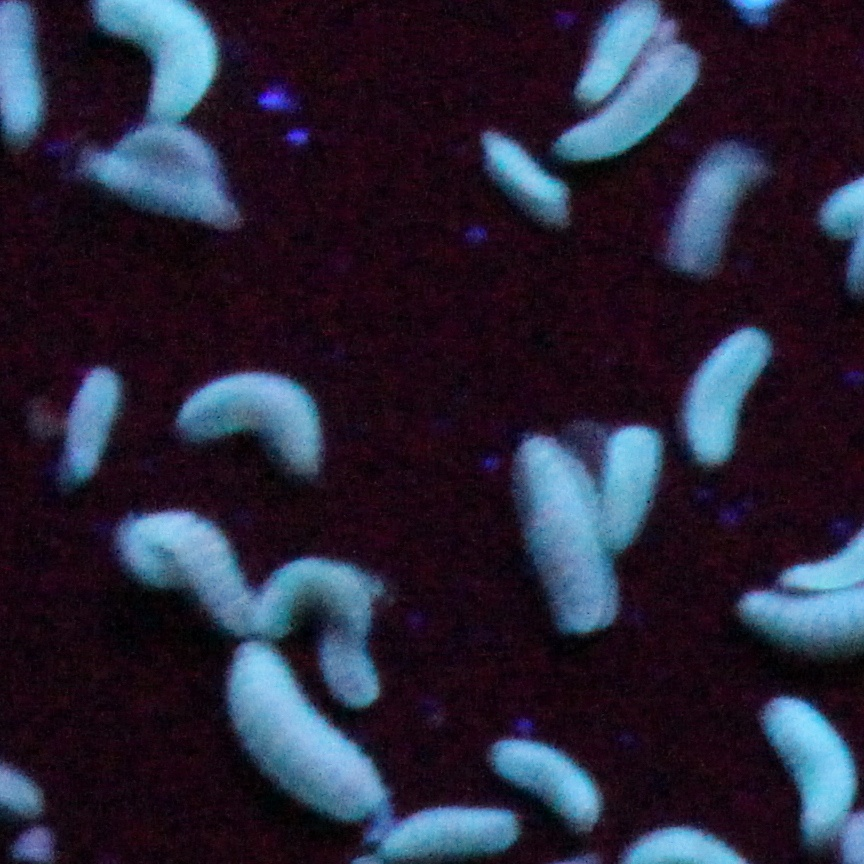larve: (202, 636, 390, 840), (474, 420, 614, 644), (537, 38, 718, 172), (107, 504, 267, 642), (166, 356, 334, 484), (748, 688, 862, 848), (656, 133, 773, 285), (665, 325, 776, 470), (317, 556, 411, 725), (94, 1, 219, 122), (77, 151, 239, 232), (485, 733, 608, 836), (39, 356, 130, 493), (467, 125, 573, 230), (599, 424, 658, 553), (115, 129, 219, 178)
